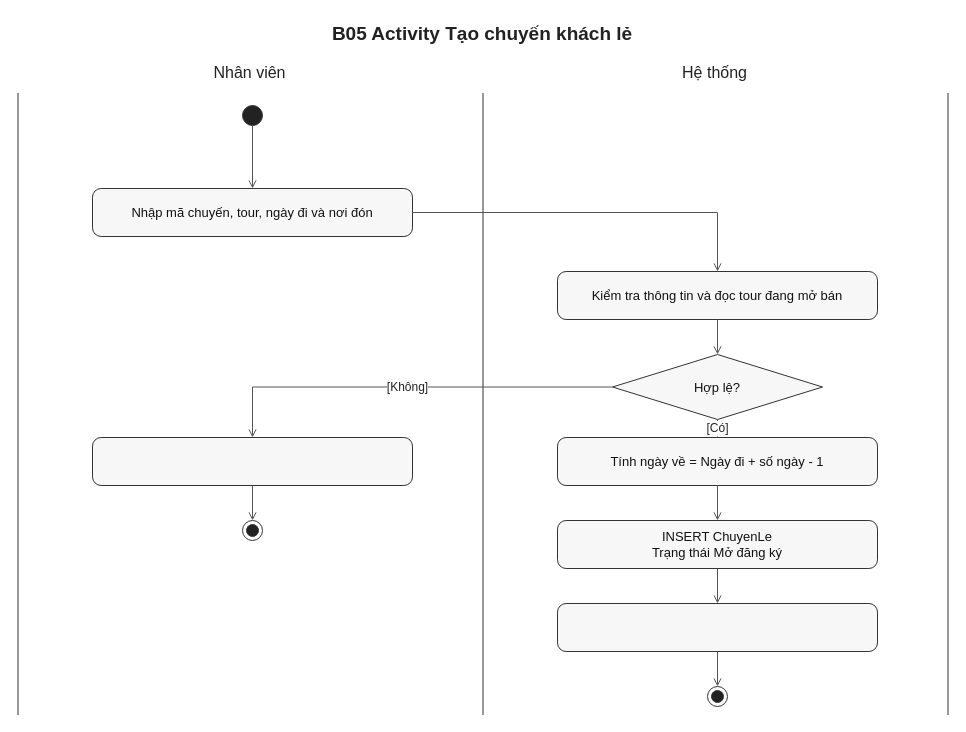
The diagram is 966 pixels wide and 732 high, and some of its shapes have lost their labels. The centre of each missing label's shape, as x and y in pixels:
Thành công: nạp lại danh sách Lỗi SQL: báo lỗi, không tạo chuyến: (717,627)
Thông báo từ chối: (252,461)
